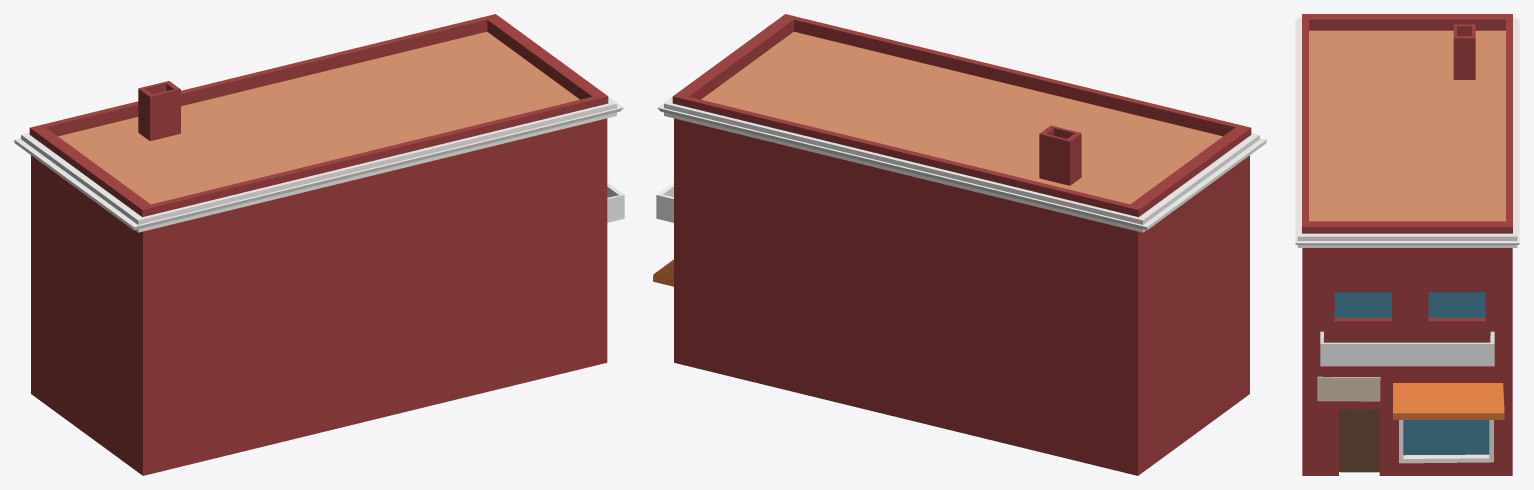
Rendered from shopflat.fbx.
3 renders of one model, left to right at view 1: azimuth 30°, elevation 25°; view 2: azimuth 150°, elevation 25°; view 3: azimuth 270°, elevation 25°, orthographic. The views are drawn at different scales.
Parts seen in each view (by area): view 1: Cube.009, Cube.016; view 2: Cube.009, Cube.016; view 3: Cube.009, Cube.015, Cube.012, Plane.001, Cube.016.
Boxes of the visible parts, x1,y1,x2,y2 form: Cube.009: (14, 14, 623, 475); Cube.016: (138, 81, 180, 140); Cube.009: (657, 14, 1266, 475); Cube.016: (1039, 125, 1081, 185); Cube.009: (1295, 14, 1519, 475); Cube.015: (1320, 331, 1494, 366); Cube.012: (1393, 383, 1504, 419); Plane.001: (1317, 376, 1380, 401); Cube.016: (1453, 24, 1475, 79).
Bounding box in the file's own units: 3.41 × 1.93 × 1.4.
